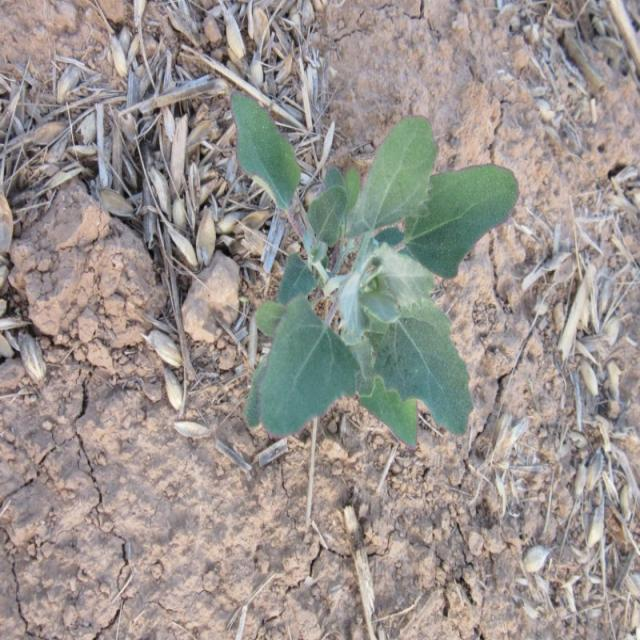ca: (230, 93, 519, 454)
